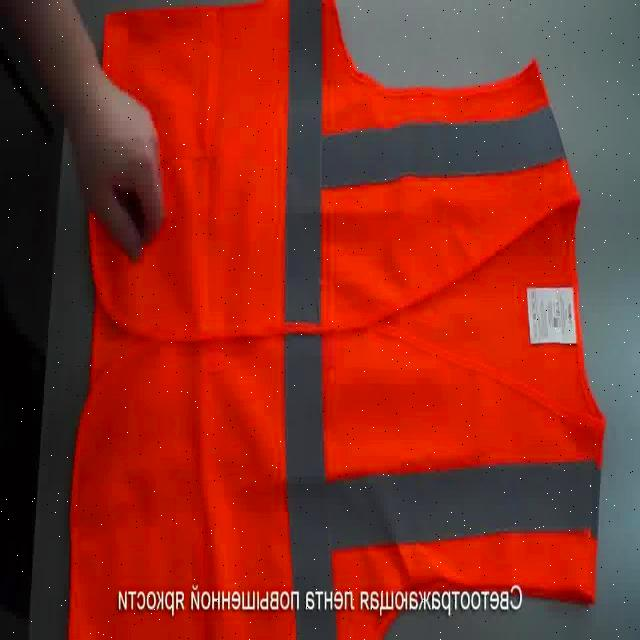Vest: (84, 12, 589, 633)
